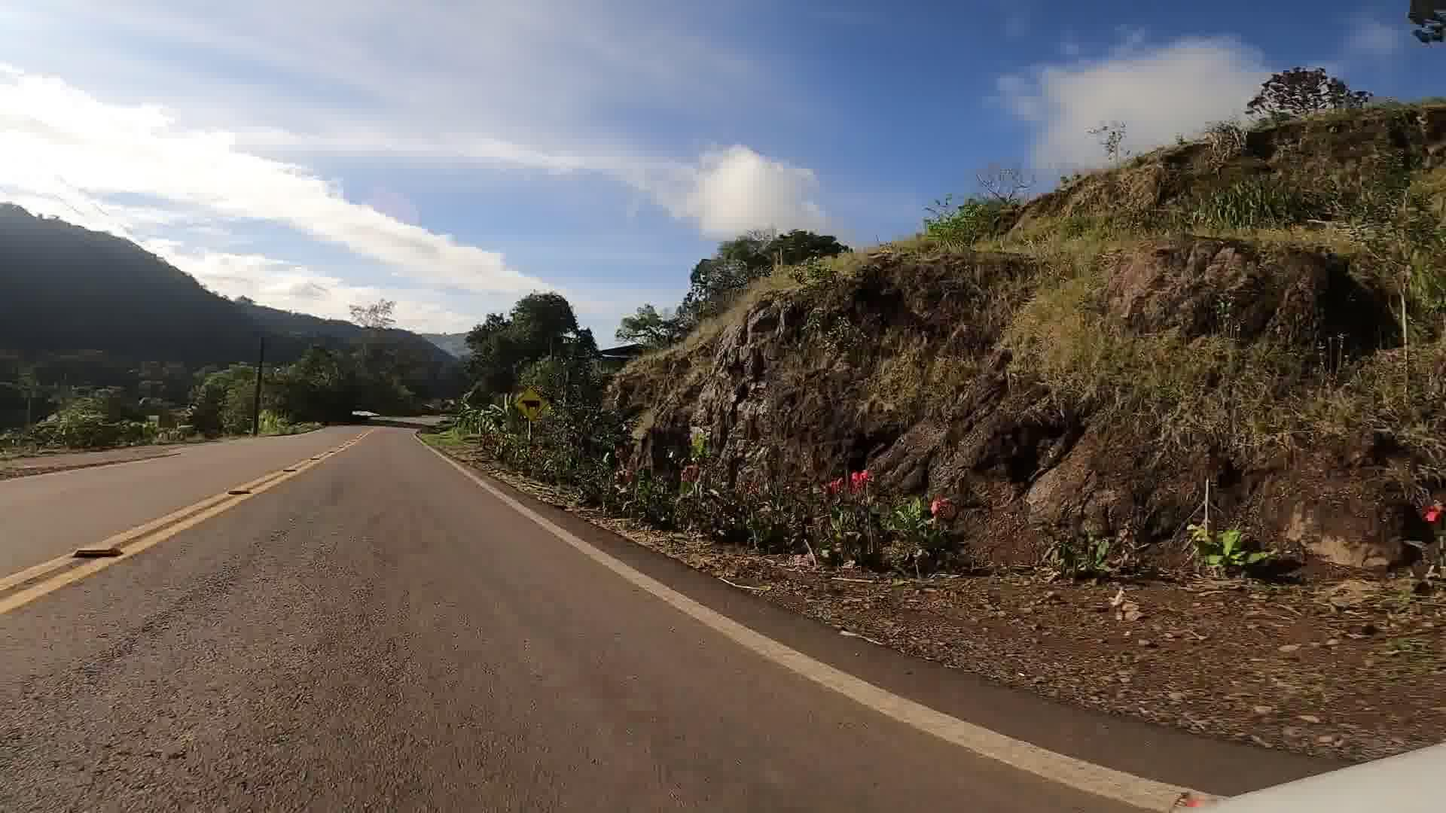A-35: (513, 384, 556, 427)
